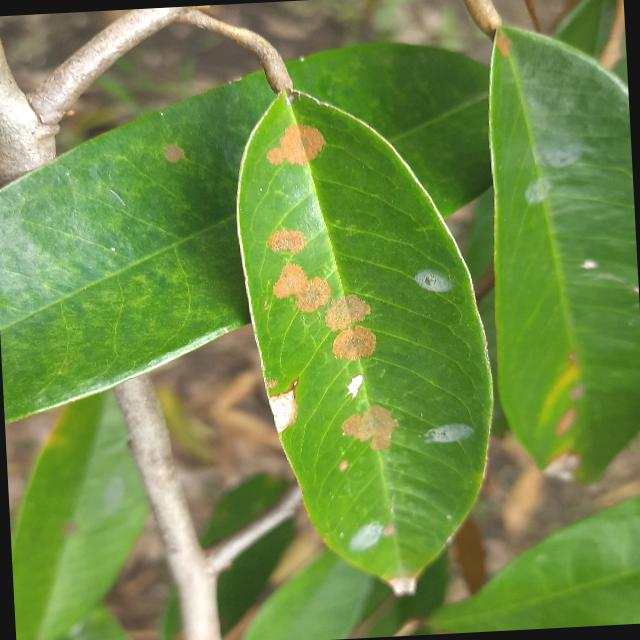Algal Leaf Spot: (216, 72, 514, 612)
